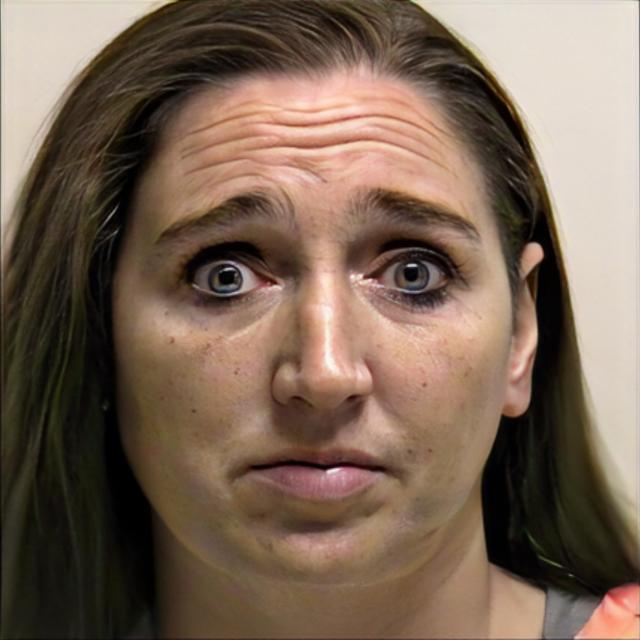fear: (104, 58, 513, 590)
